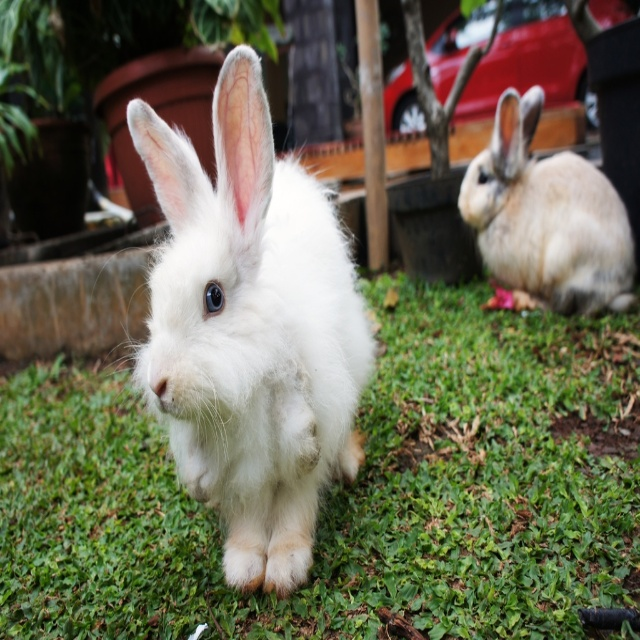Rabbit: (91, 43, 379, 603), (457, 84, 638, 319)
